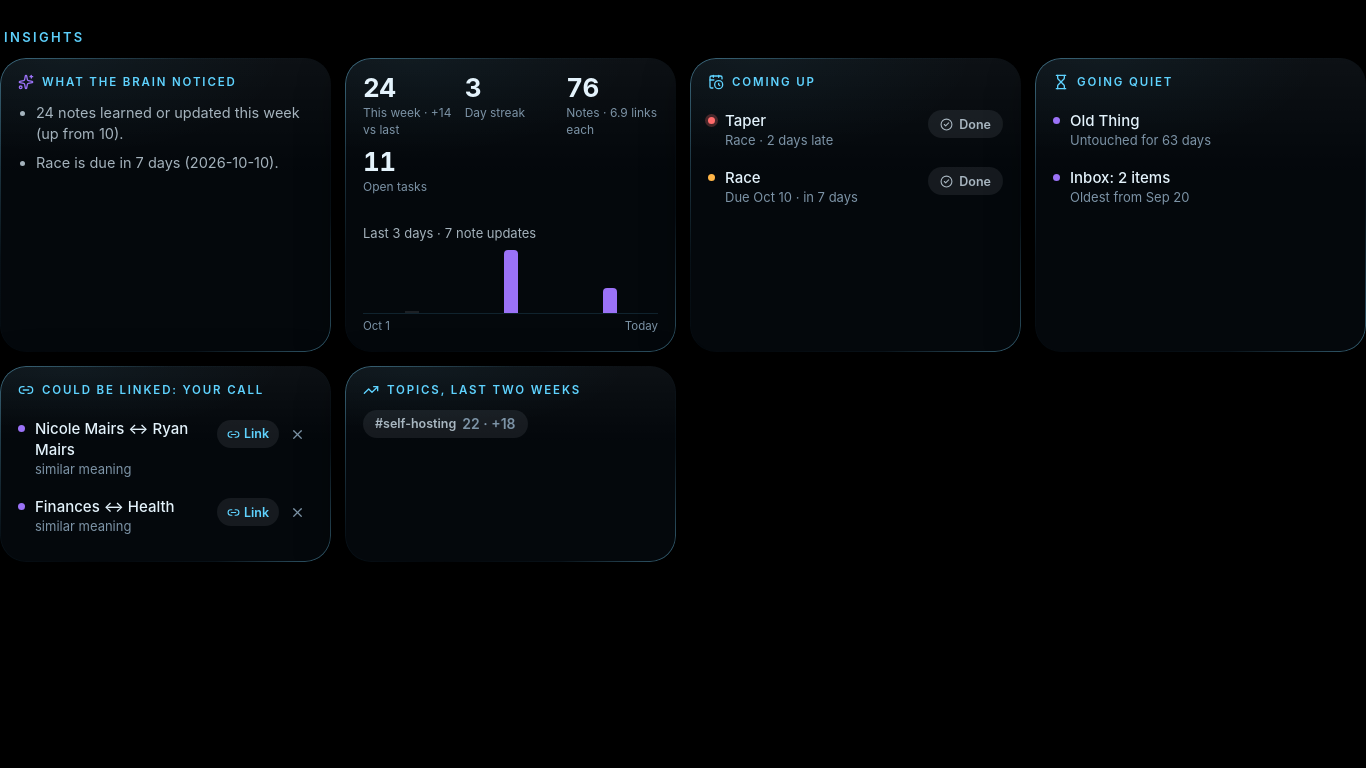
Scenario: <BrainInsights /> › links a suggested pair, then refreshes so the next suggestion moves up
Click the button with aria-label "Link Nicole Mairs and Ryan Mairs" at (248, 434), box [217,420,279,448]
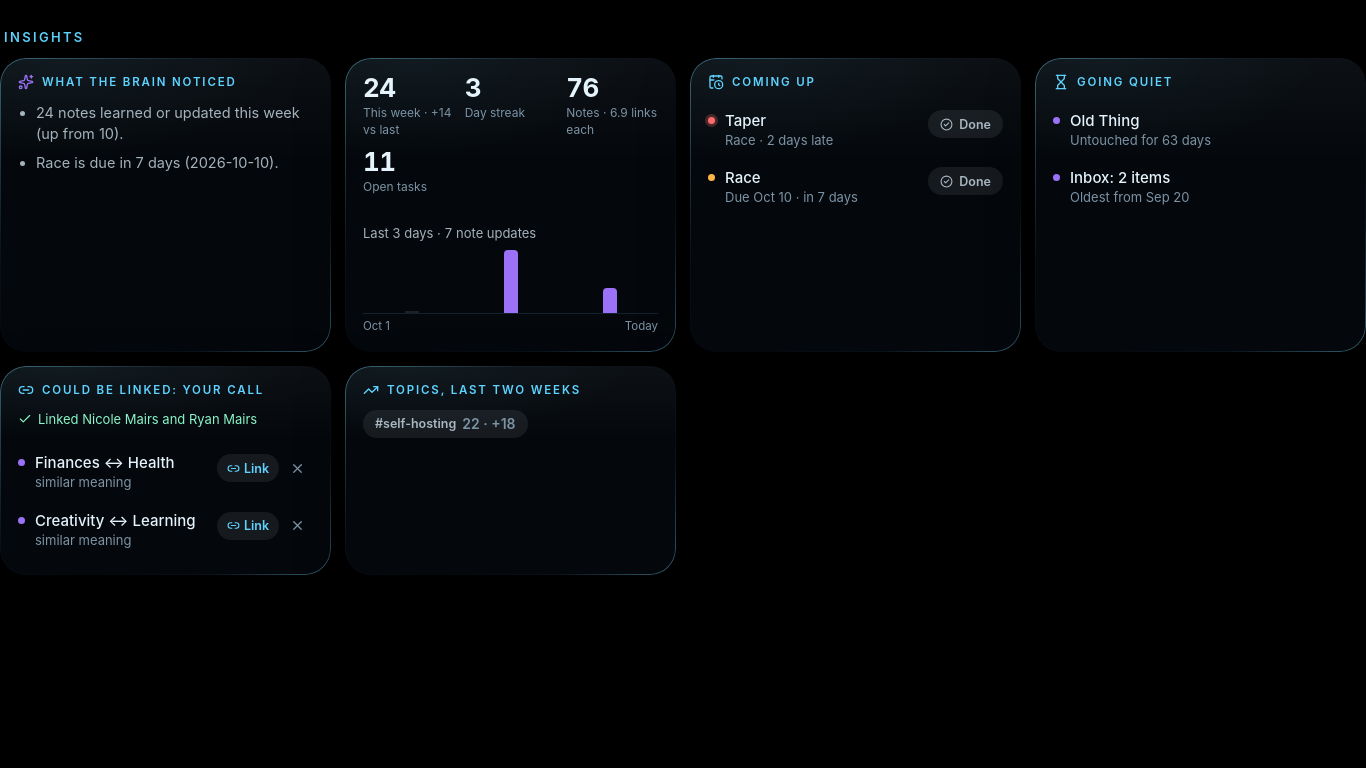
Check: the message reads "Linked Nicole Mairs and Ryan Mairs", box [38,411,257,427]
Check: the text "Nicole Mairs ↔ Ryan Mairs" is gone
Check: the text "Creativity ↔ Learning" is shown, box [35,510,207,530]
